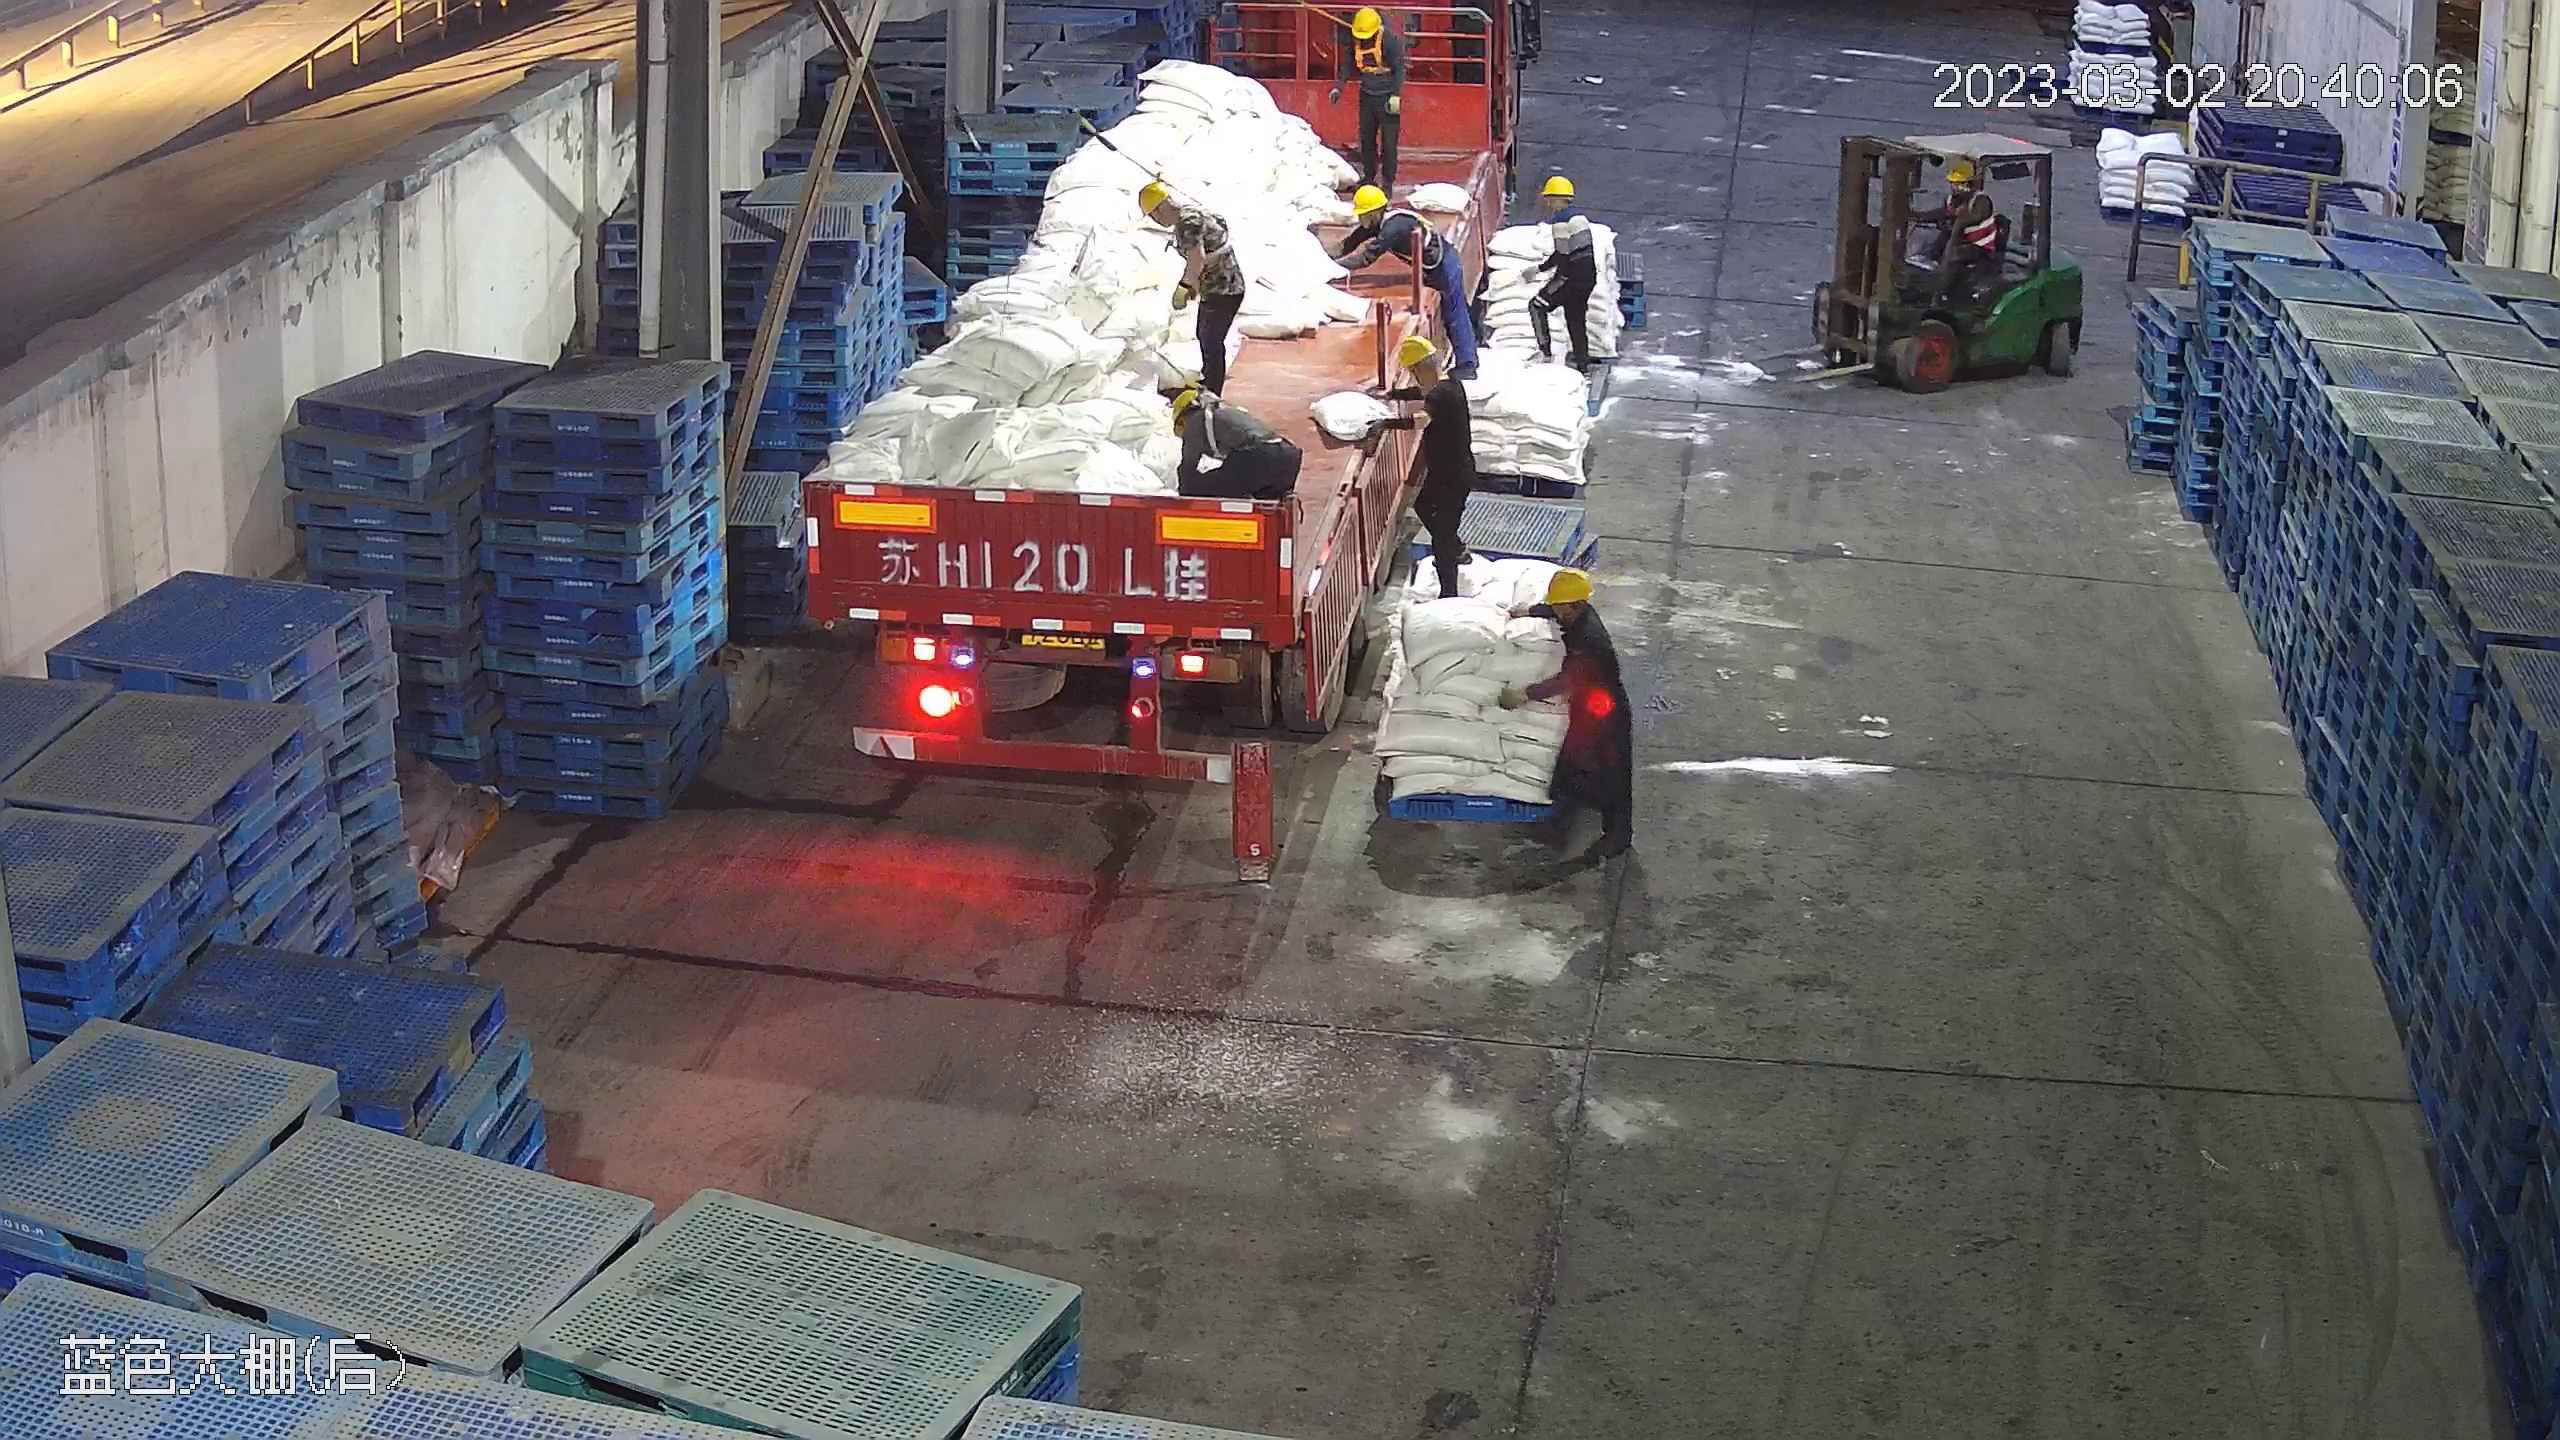belt: (1181, 394, 1275, 462), (1178, 202, 1234, 265), (1388, 207, 1446, 265), (1348, 34, 1394, 81)
head: (1527, 175, 1599, 309), (1531, 563, 1617, 669), (1170, 381, 1265, 458), (1337, 185, 1433, 256), (1390, 332, 1470, 419), (1136, 176, 1218, 251), (1532, 174, 1592, 245), (1340, 7, 1399, 64), (1946, 158, 1998, 217)
helmet: (1533, 173, 1591, 241), (1539, 564, 1594, 604), (1395, 333, 1444, 372), (1166, 383, 1208, 426), (1135, 177, 1175, 217), (1348, 184, 1389, 216), (1348, 7, 1382, 38), (1539, 173, 1575, 199), (1949, 158, 1978, 181)
people: (1502, 557, 1634, 870), (1321, 182, 1476, 383), (1136, 177, 1250, 409), (1168, 380, 1304, 572), (1395, 331, 1476, 605), (1524, 172, 1600, 373), (1327, 6, 1409, 188), (1926, 158, 2007, 294)
truck: (792, 15, 1507, 775)
